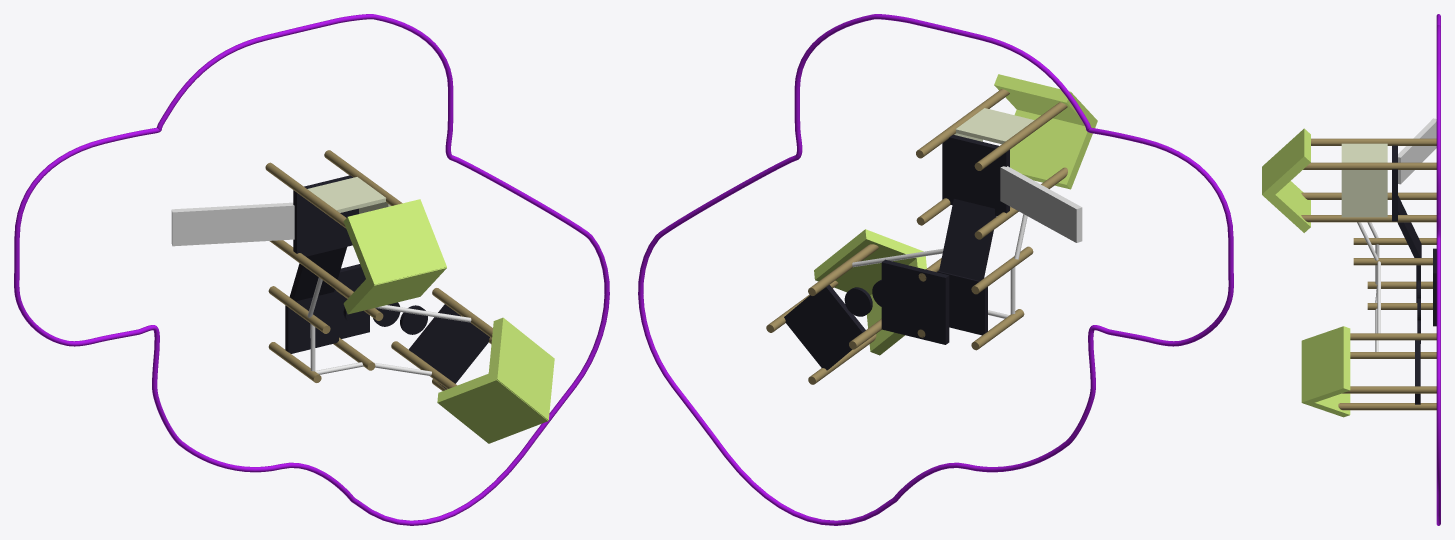
The model's file is leber-lgik-120.glb.
3 renders of one model, left to right at view 1: azimuth 30°, elevation 25°; view 2: azimuth 150°, elevation 25°; view 3: azimuth 270°, elevation 25°, orthographic. The views are drawn at different scales.
Visible parts, largest first — view 1: _outline.004, Cube.009, Cube.007, Cube.010, Cube.011, Cube.005, Cube.023, Cube.003, Cube.008, Cube.012, Cube.006, Cube.004 (+5 smaller); view 2: _outline.004, Cube.004, Cube.008, Cube.005, Cube.023, Cube.007, Cube.006, Cube.011, Cube.009, Cube.003, Cube.012, Cylinder.009 (+5 smaller); view 3: Cube.011, _outline.004, Cube.013, Cube.009, Cube.008, Cylinder.005, Cube.007, Cylinder.006, Cube.012, Cylinder.009, Cylinder.013, Cylinder.014 (+13 smaller).
Boxes of the visible parts, box(x1,y1,x2,y2) form: _outline.004: box(14, 14, 609, 525); Cube.009: box(343, 199, 446, 288); Cube.007: box(171, 202, 294, 246); Cube.010: box(437, 370, 547, 443); Cube.011: box(488, 317, 554, 420); Cube.005: box(408, 304, 489, 389); Cube.023: box(293, 175, 358, 256); Cube.003: box(285, 289, 338, 353); Cube.008: box(343, 267, 446, 314); Cube.012: box(307, 177, 386, 212); Cube.006: box(289, 247, 346, 301); Cube.004: box(337, 264, 369, 338); _outline.004: box(638, 14, 1233, 525); Cube.004: box(881, 259, 949, 344); Cube.008: box(1010, 109, 1097, 189); Cube.005: box(784, 285, 865, 370); Cube.023: box(942, 134, 1009, 215); Cube.007: box(1000, 166, 1082, 242); Cube.006: box(939, 199, 996, 280); Cube.011: box(814, 229, 925, 295); Cube.009: box(994, 74, 1097, 128); Cube.003: box(937, 270, 987, 335); Cube.012: box(955, 108, 1034, 144); Cylinder.009: box(974, 102, 1067, 170); Cube.011: box(1301, 326, 1350, 402); _outline.004: box(1436, 14, 1440, 525); Cube.013: box(1341, 170, 1387, 217); Cube.009: box(1262, 128, 1310, 198); Cube.008: box(1262, 181, 1310, 232); Cylinder.005: box(1303, 162, 1436, 169); Cube.007: box(1398, 118, 1436, 184); Cylinder.006: box(1301, 215, 1436, 222); Cube.012: box(1341, 143, 1387, 162); Cylinder.009: box(1311, 138, 1436, 145); Cylinder.013: box(1338, 403, 1436, 410); Cylinder.014: box(1342, 386, 1436, 393).
Bounding box in the file's own units: 7.63 × 6.48 × 2.52.
